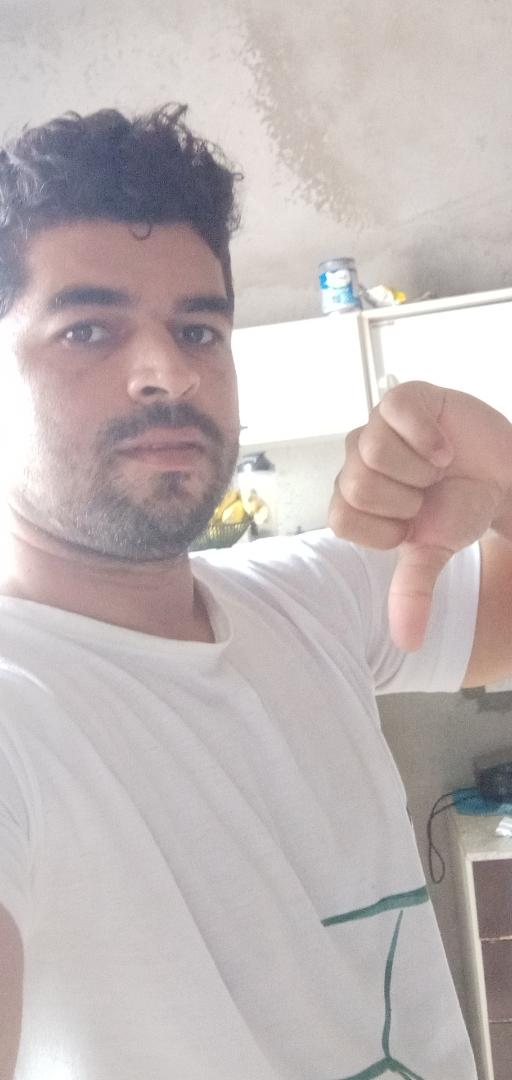dislike: (319, 371, 507, 653)
